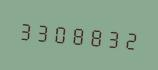eight: (68, 19, 84, 50), (85, 20, 101, 51)
three: (17, 14, 33, 45), (34, 16, 50, 47), (102, 22, 118, 53)
two: (119, 23, 135, 54)
zero: (51, 17, 67, 48)
